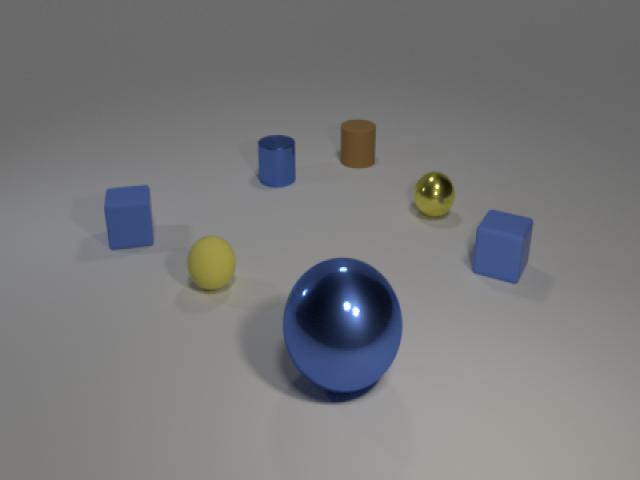cylinder: (250, 126, 303, 193), (336, 114, 380, 176)
round ball: (276, 249, 409, 404), (183, 230, 239, 298), (411, 164, 458, 226)
